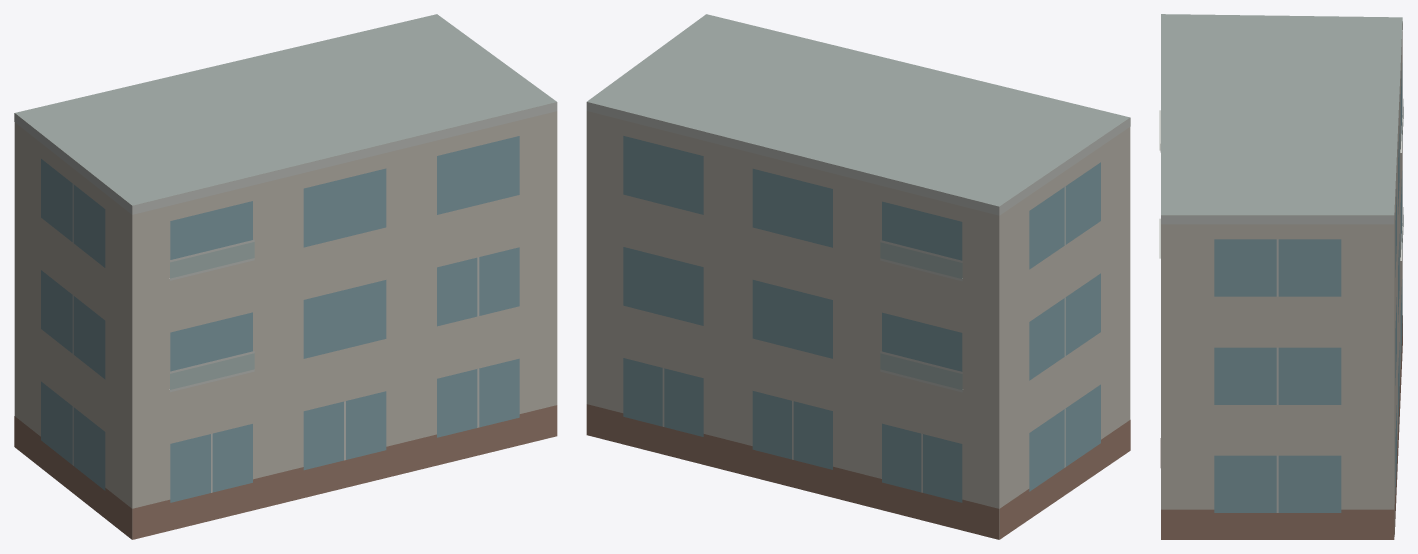
The model's file is survey-upis-32489885.glb.
3 renders of one model, left to right at view 1: azimuth 30°, elevation 25°; view 2: azimuth 150°, elevation 25°; view 3: azimuth 270°, elevation 25°, orthographic. The views are drawn at different scales.
Parts seen in each view (by area): view 1: survey-upis-32489885.tmp; view 2: survey-upis-32489885.tmp; view 3: survey-upis-32489885.tmp.
Part boxes in pixels (x1,y1,x2,y2): survey-upis-32489885.tmp: [14, 14, 557, 539]; survey-upis-32489885.tmp: [586, 14, 1130, 539]; survey-upis-32489885.tmp: [1159, 14, 1403, 539].
Bounding box in the file's own units: 11.86 × 8.9 × 6.07.
